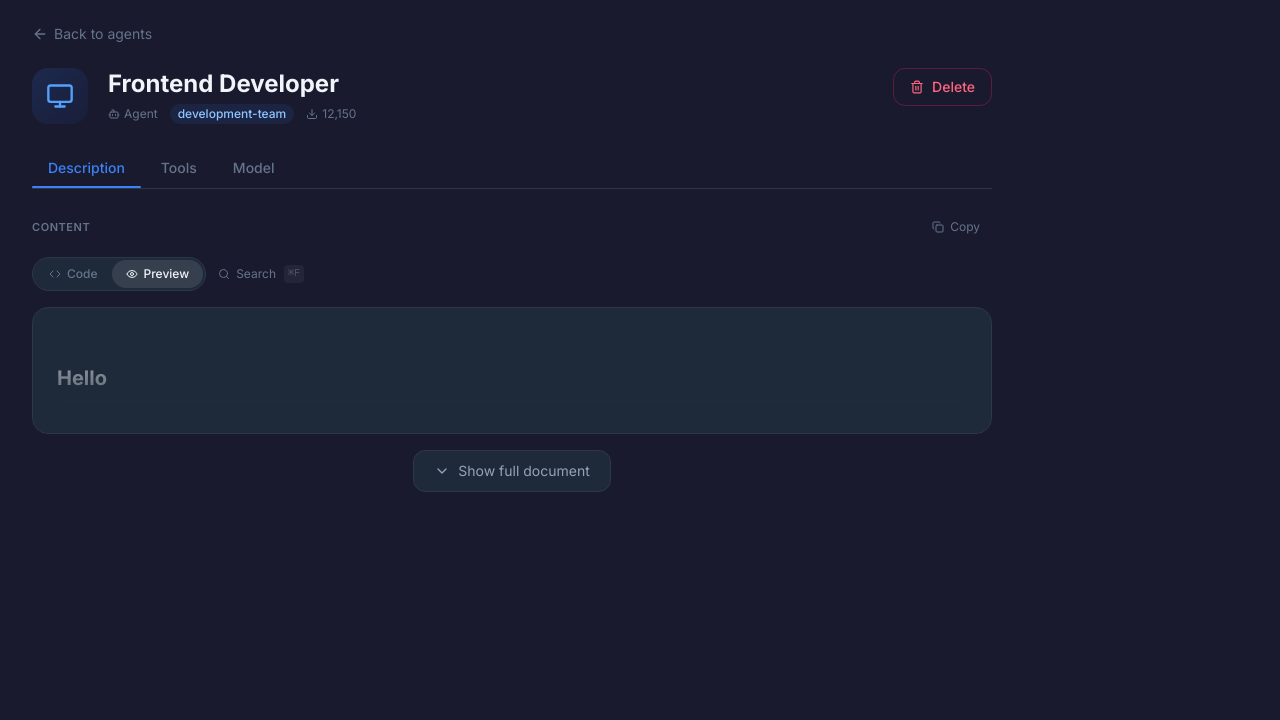
it: AgentDetailPage delete flow with references › skips the references modal and opens type-to-confirm when no references exist
Click the button with aria-label "delete this agent": x=943, y=87 [893,68,992,106]
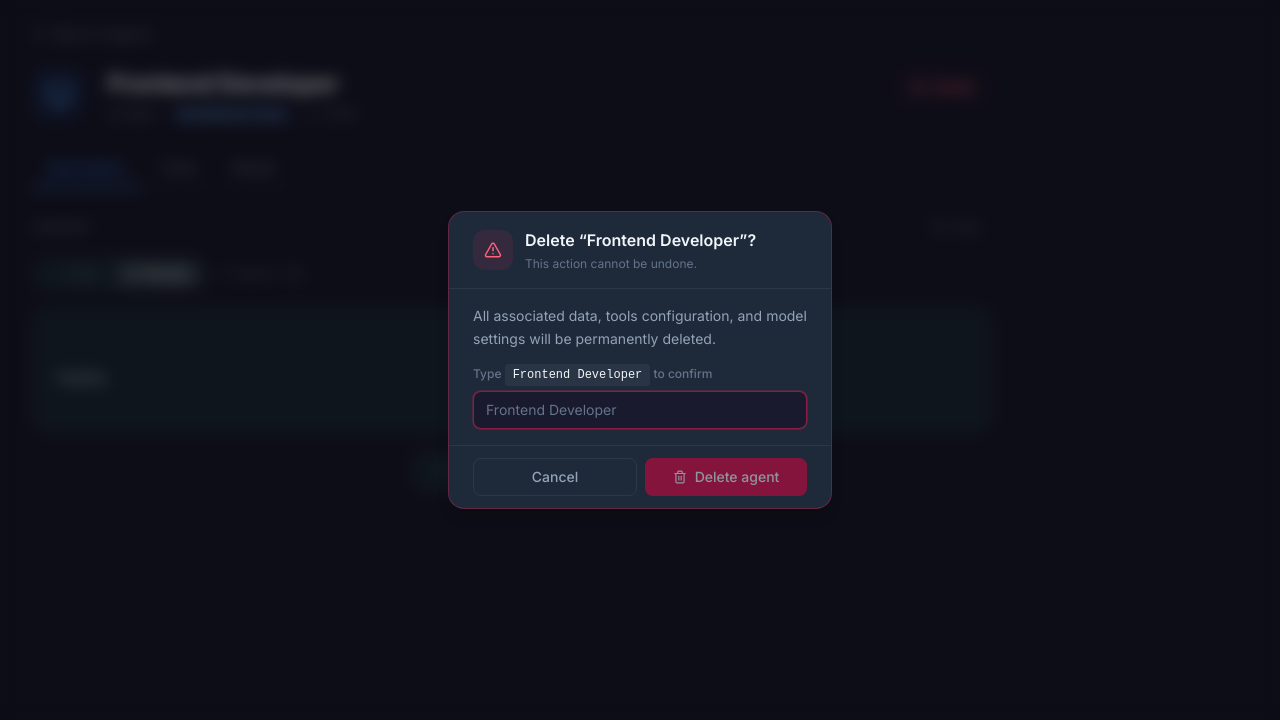
Check: the button "Delete agent" is shown, box [645,458,807,496]
